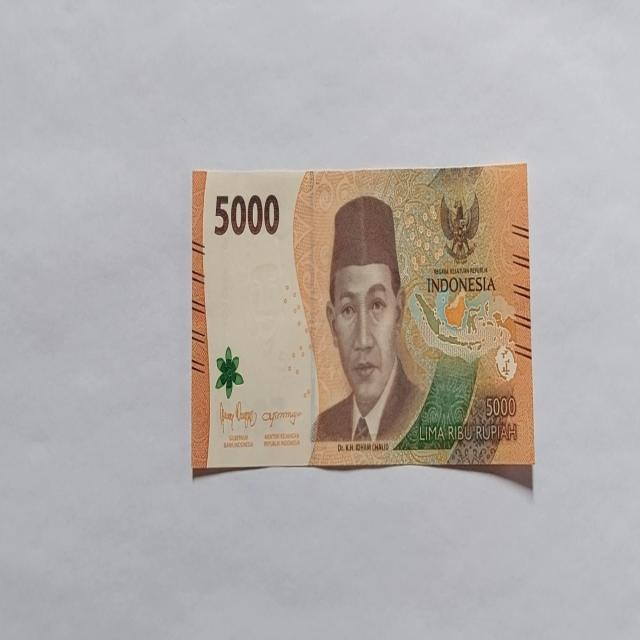lima ribu rupiah: (191, 164, 533, 478), (308, 194, 426, 448)
